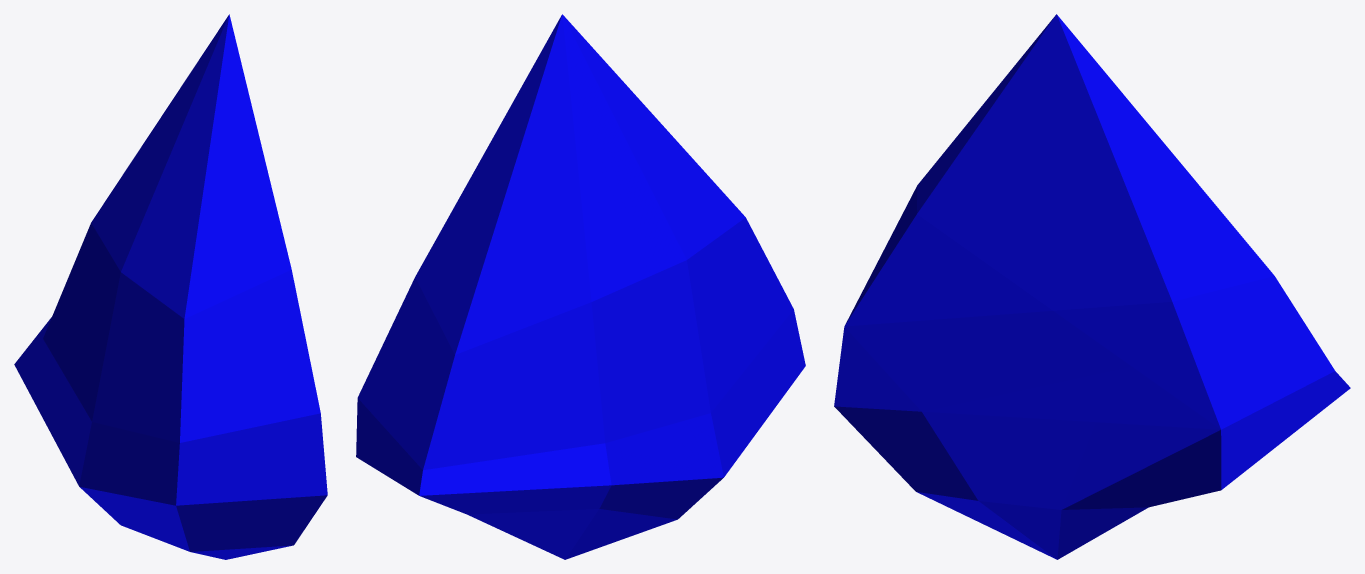
Rendered from Blue_Crystal_04.fbx.
3 renders of one model, left to right at view 1: azimuth 30°, elevation 25°; view 2: azimuth 150°, elevation 25°; view 3: azimuth 270°, elevation 25°, orthographic.
Visible parts, largest first — view 1: Blue_Crystal_04; view 2: Blue_Crystal_04; view 3: Blue_Crystal_04.
Boxes of the visible parts, x1=… form: Blue_Crystal_04: x1=14, y1=14, x2=327, y2=559; Blue_Crystal_04: x1=356, y1=14, x2=805, y2=559; Blue_Crystal_04: x1=834, y1=14, x2=1350, y2=559.
Bounding box in the file's own units: 4.33 × 8.04 × 6.88.
